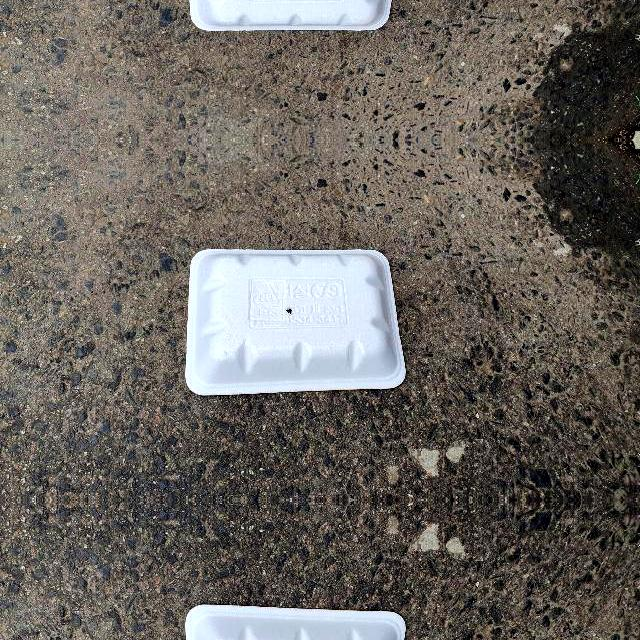Styrofoam: (184, 247, 406, 395), (185, 249, 406, 395), (184, 605, 406, 640), (185, 605, 406, 640), (184, 0, 406, 33), (189, 0, 392, 31)
